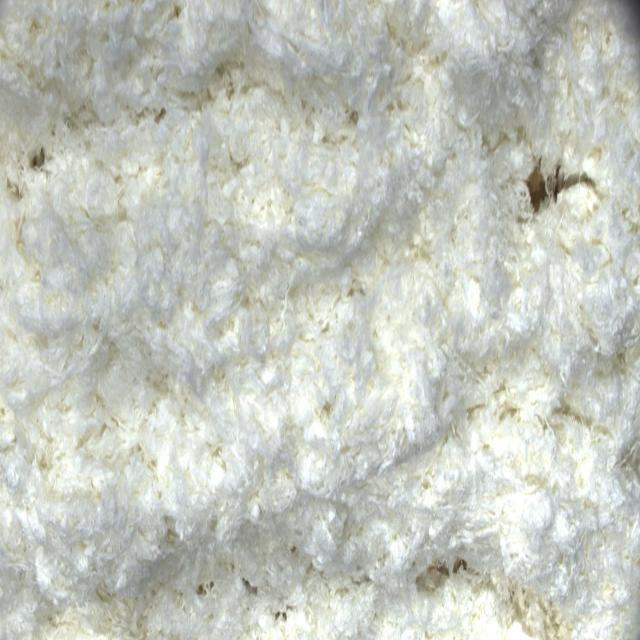dust: (528, 151, 589, 223), (427, 547, 473, 600), (25, 138, 50, 177), (552, 205, 567, 213)
